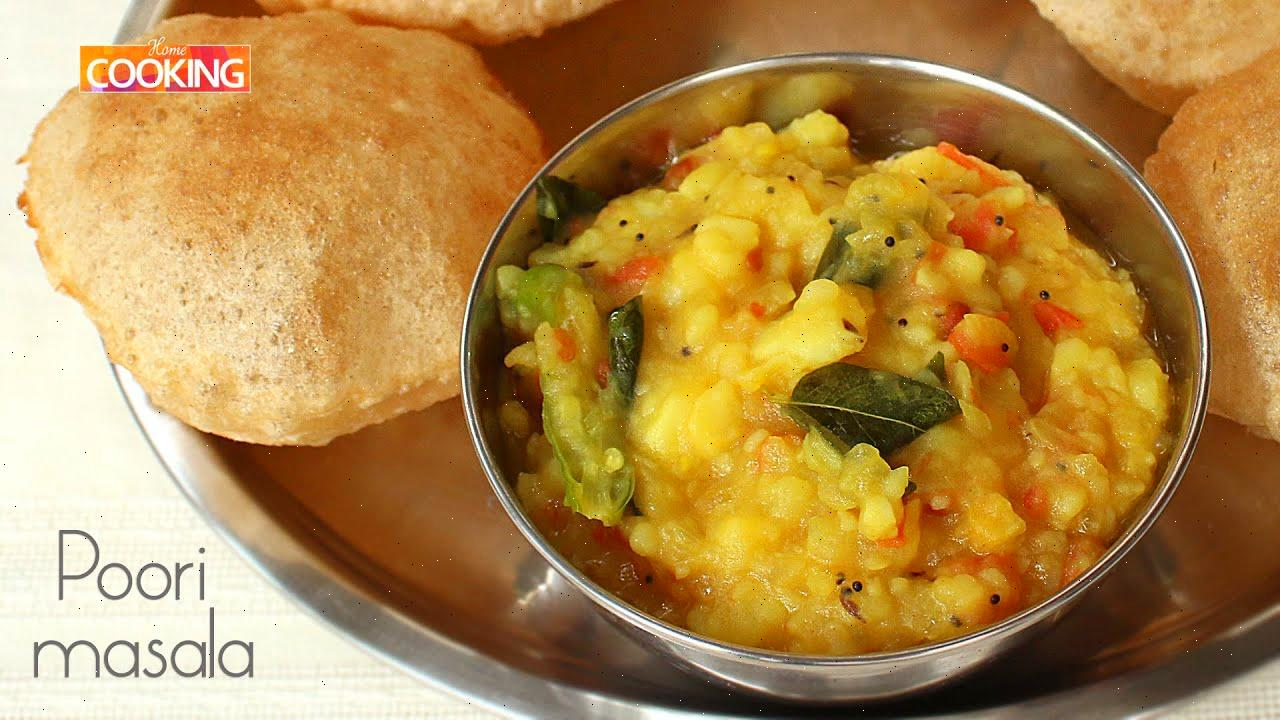puri: (56, 102, 498, 436)
